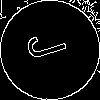J: (25, 25, 77, 63)
